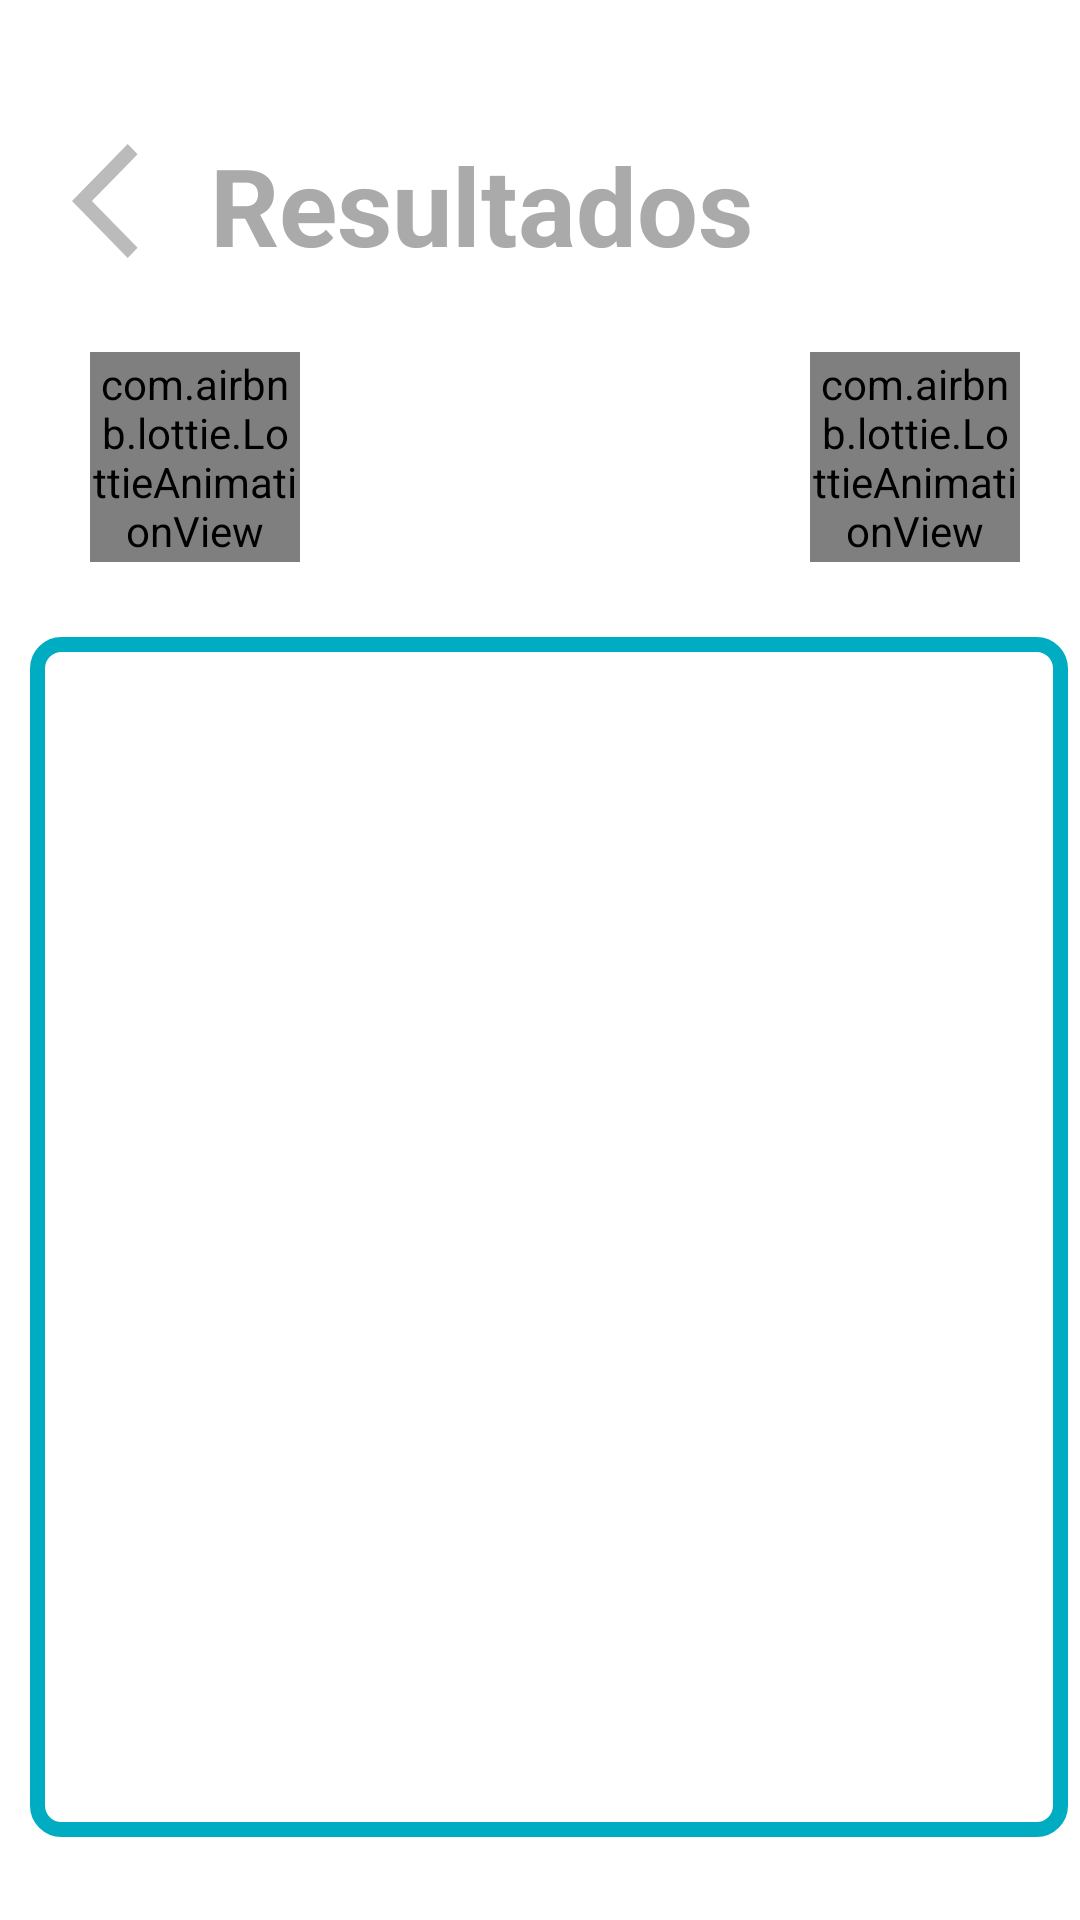

Locate icon controls on the screen. Image size 1080px x 1920px, boxes as [x1,y1,x2,y2].
flecha: [72,144,137,258]
